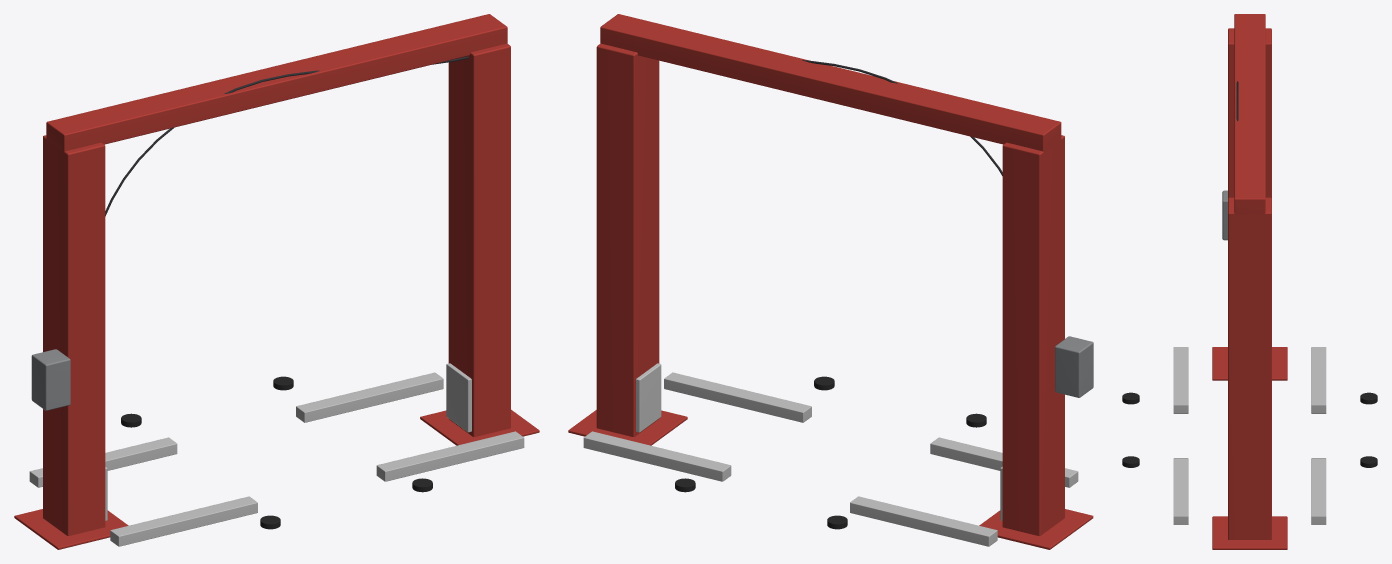
File: TwoPostLift.fbx
The picture shows the model from 3 angles, left to right: view 1: azimuth 30°, elevation 25°; view 2: azimuth 150°, elevation 25°; view 3: azimuth 270°, elevation 25°; orthographic projection. The views are drawn at different scales.
Parts seen in each view (by area): view 1: TwoPostLift_LOD0; view 2: TwoPostLift_LOD0; view 3: TwoPostLift_LOD0.
Boxes of the visible parts, left/top/right/bottom form: TwoPostLift_LOD0: left=14, top=14, right=539, bottom=549; TwoPostLift_LOD0: left=568, top=14, right=1093, bottom=549; TwoPostLift_LOD0: left=1122, top=14, right=1377, bottom=549.
Size of what is drawn, in the model's own units: 3.85 by 3.06 by 2.04.
